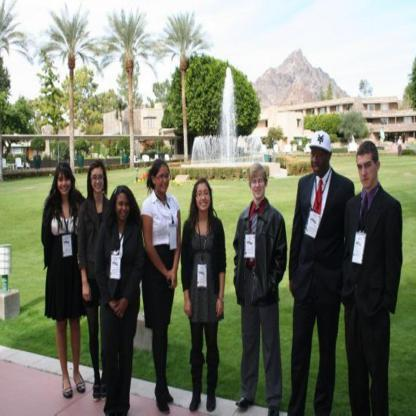face: (358, 156, 377, 188), (312, 145, 330, 173), (156, 165, 170, 193), (197, 184, 211, 211), (117, 194, 131, 221), (252, 175, 266, 199), (58, 172, 72, 195), (92, 169, 104, 193)
